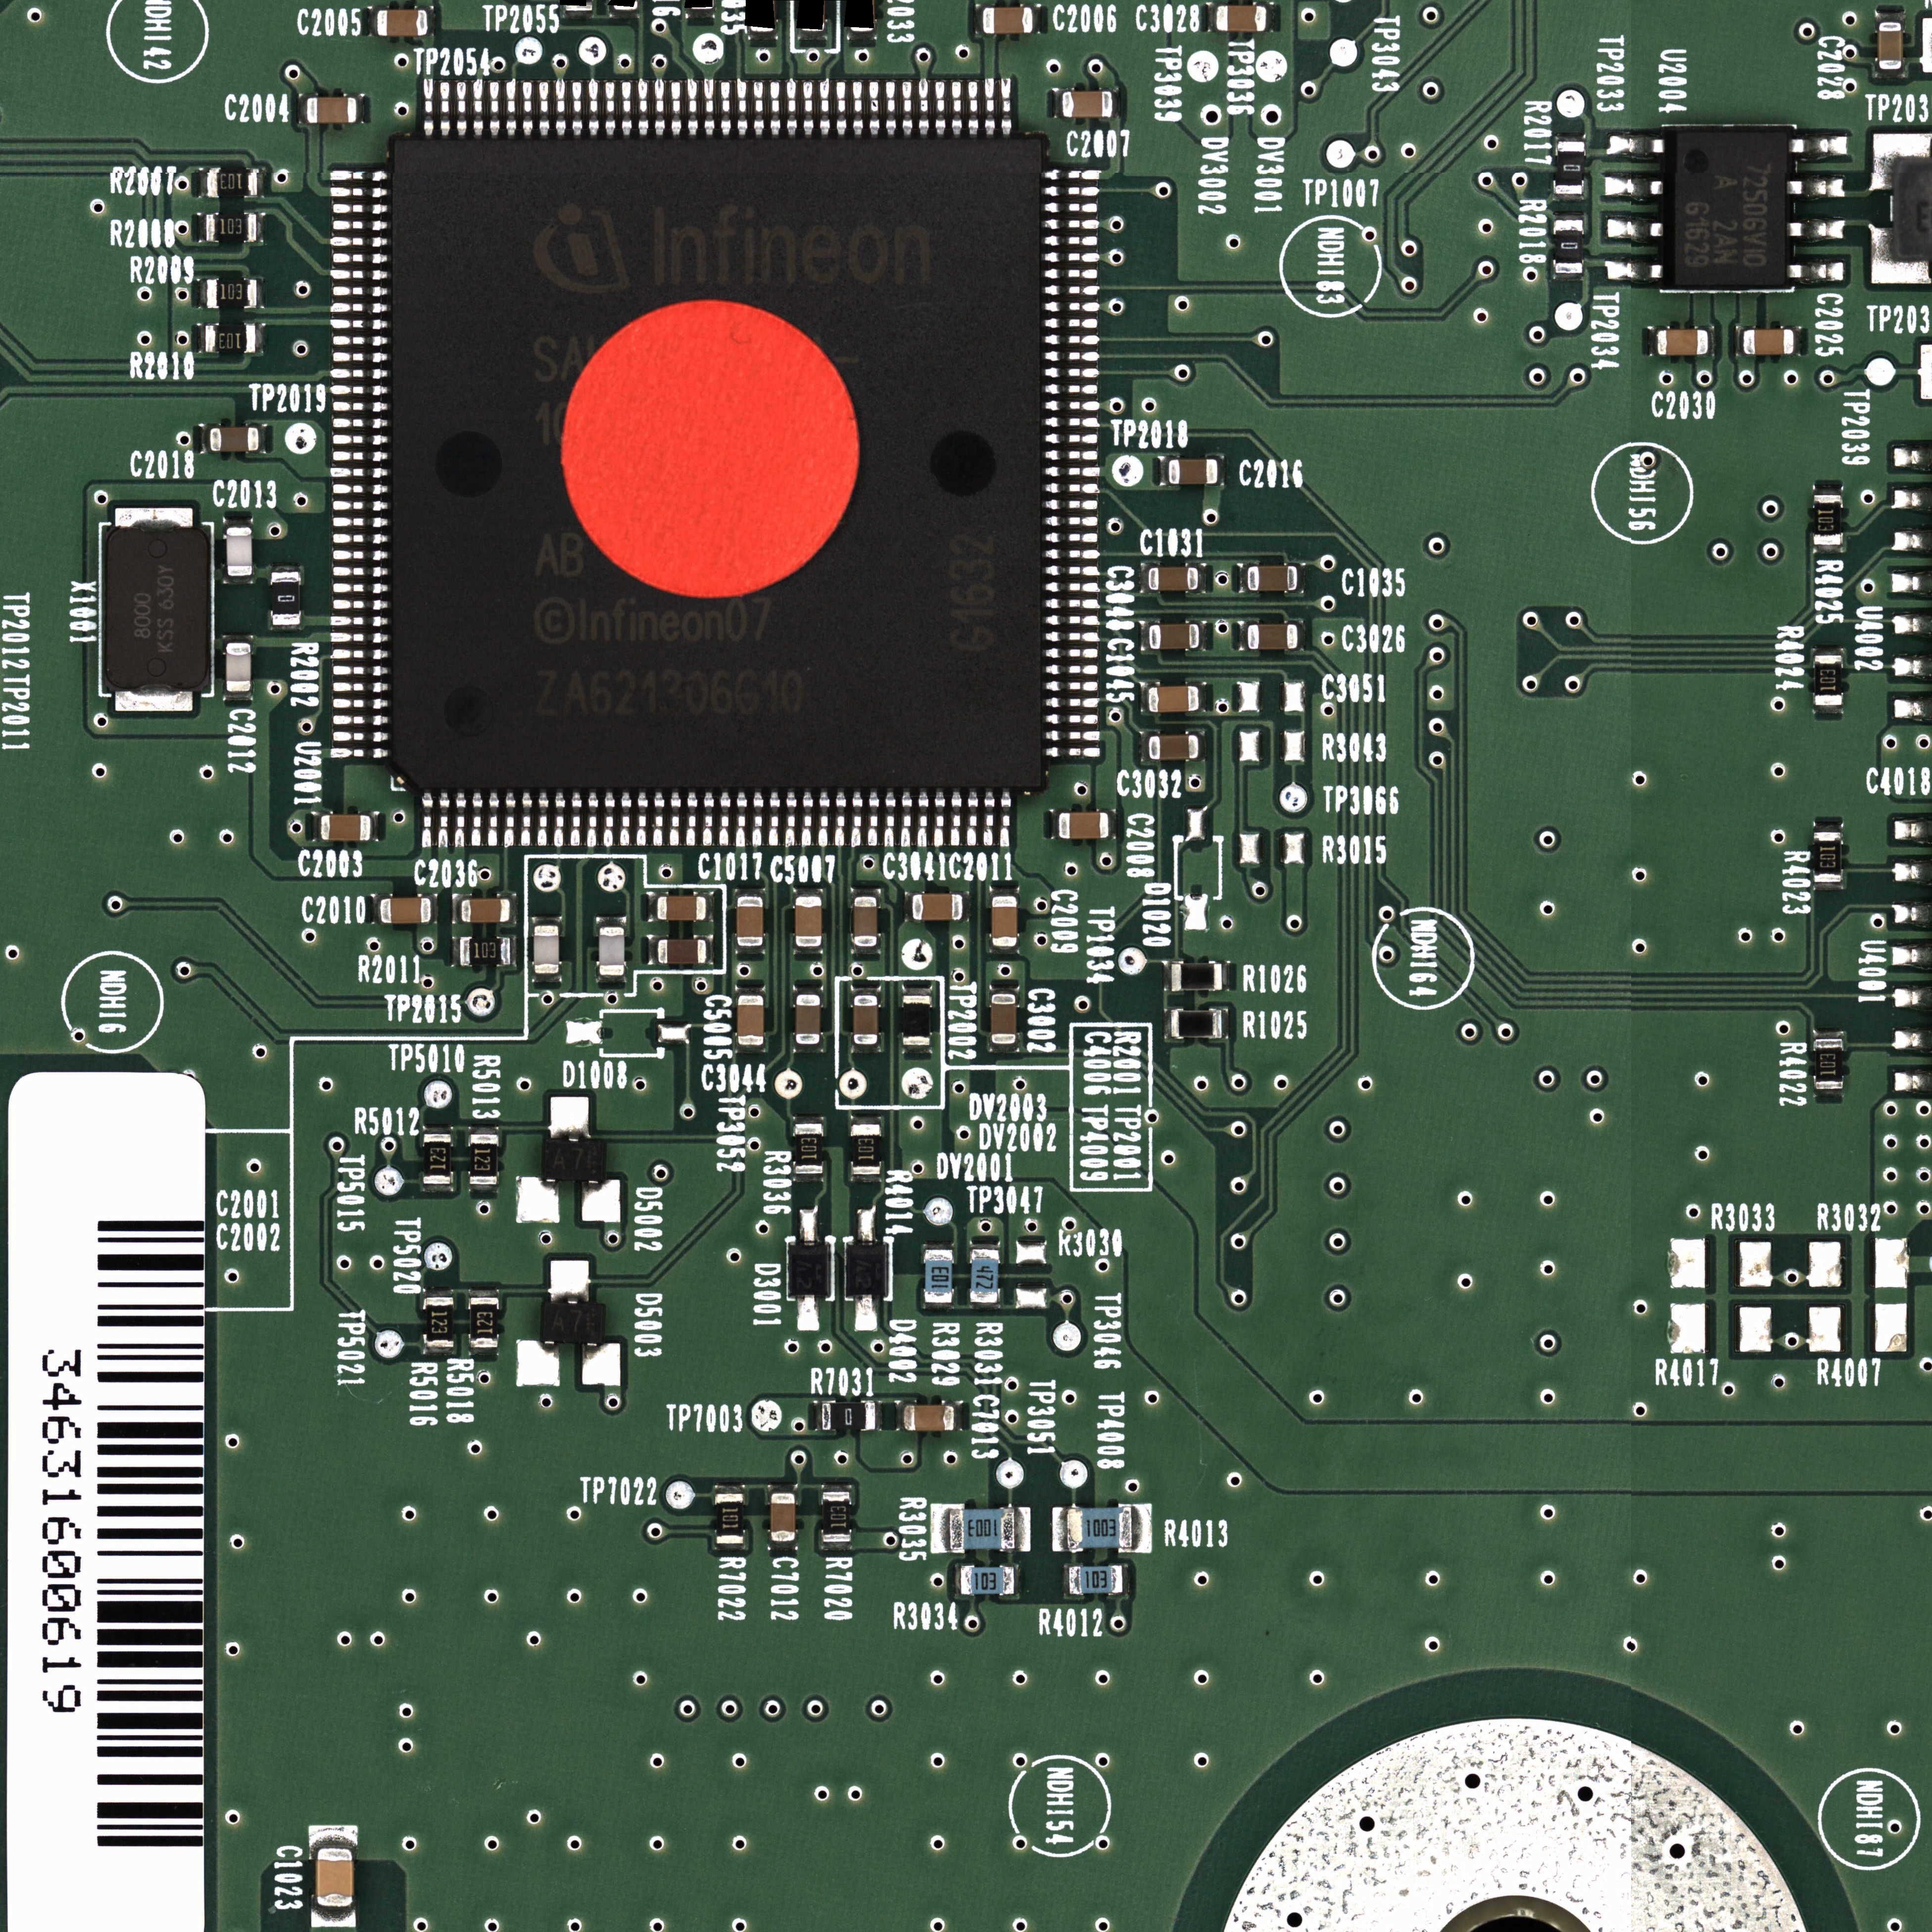Package: (395, 140, 1042, 786), (1670, 129, 1787, 288), (106, 529, 207, 688), (1067, 1507, 1132, 1550), (950, 1509, 1016, 1550), (541, 1304, 603, 1341), (543, 1141, 603, 1178), (317, 1849, 352, 1907), (789, 1246, 828, 1295), (847, 1246, 885, 1295), (1555, 219, 1583, 272), (1069, 1566, 1122, 1594), (821, 1403, 876, 1430), (1171, 962, 1223, 991), (1171, 1008, 1223, 1037), (272, 571, 299, 625), (961, 1568, 1014, 1594), (971, 1249, 998, 1302), (1557, 142, 1583, 195), (377, 9, 426, 37), (794, 897, 823, 947), (207, 280, 257, 308), (902, 996, 931, 1046), (794, 1123, 823, 1173), (320, 814, 372, 840), (205, 214, 257, 241), (306, 97, 357, 124), (982, 7, 1033, 34), (738, 994, 764, 1046), (823, 1491, 849, 1543), (925, 1251, 952, 1302), (853, 1123, 879, 1175), (471, 1297, 497, 1348), (1062, 90, 1113, 117), (1215, 5, 1267, 32), (1058, 812, 1109, 839), (1815, 832, 1842, 883), (1815, 655, 1842, 706), (1815, 1039, 1842, 1090), (913, 893, 962, 920), (460, 938, 510, 964), (380, 897, 430, 924), (205, 326, 255, 352), (425, 1134, 451, 1184), (904, 1405, 954, 1431), (471, 1134, 497, 1184), (717, 1493, 743, 1543), (426, 1297, 453, 1346), (1744, 329, 1794, 356), (1658, 329, 1707, 356), (1813, 495, 1840, 545), (1169, 458, 1217, 485), (738, 897, 763, 947), (853, 897, 878, 947), (993, 897, 1017, 947), (656, 895, 706, 920), (853, 994, 878, 1044), (796, 994, 821, 1044), (991, 994, 1016, 1044), (1150, 625, 1200, 649), (1148, 686, 1198, 711), (1247, 625, 1297, 649), (1148, 734, 1198, 759), (1148, 566, 1198, 591), (1247, 566, 1297, 591), (211, 426, 258, 451), (226, 527, 251, 575), (658, 939, 706, 964), (600, 927, 625, 975), (226, 644, 251, 692), (462, 899, 510, 924), (534, 925, 559, 973), (771, 1493, 794, 1541), (1879, 23, 1902, 69)
Solder: (517, 1341, 559, 1385), (517, 1178, 559, 1223), (550, 1260, 591, 1304), (115, 688, 193, 711), (550, 1097, 589, 1141), (115, 506, 193, 527), (582, 1343, 621, 1385), (582, 1180, 619, 1221), (1789, 134, 1851, 157), (1787, 218, 1849, 241), (1789, 175, 1849, 198), (1789, 260, 1849, 283), (310, 1826, 357, 1849), (1132, 1504, 1152, 1553), (311, 1907, 356, 1928), (931, 1504, 948, 1553), (855, 1295, 878, 1330), (798, 1295, 819, 1330), (331, 400, 389, 412), (331, 384, 389, 396), (331, 433, 389, 446), (331, 449, 389, 462), (331, 467, 389, 479), (331, 648, 389, 660), (331, 747, 389, 759), (331, 632, 389, 644), (686, 78, 699, 136), (984, 78, 996, 136), (331, 186, 387, 198), (331, 285, 387, 297), (488, 80, 501, 136), (331, 235, 387, 248), (333, 697, 389, 709), (333, 681, 389, 694), (504, 791, 517, 847), (587, 80, 600, 136), (637, 80, 649, 136), (736, 80, 748, 136), (786, 80, 798, 136), (851, 791, 863, 847), (718, 791, 731, 847), (916, 791, 929, 847), (901, 791, 913, 847), (1044, 366, 1100, 379), (1044, 416, 1100, 428), (1044, 251, 1100, 264), (1044, 465, 1100, 478), (333, 483, 387, 495), (333, 334, 387, 347), (333, 219, 387, 232), (333, 499, 387, 511), (333, 582, 387, 594), (333, 598, 387, 610), (421, 793, 433, 847), (333, 533, 387, 545), (885, 81, 897, 136), (538, 81, 550, 136), (835, 81, 847, 136), (934, 81, 947, 136), (603, 793, 616, 847), (520, 793, 533, 847), (570, 793, 582, 847), (801, 793, 814, 847), (950, 791, 962, 846), (966, 791, 978, 846), (1044, 202, 1099, 214), (1044, 317, 1099, 329), (1044, 218, 1099, 230), (1044, 267, 1099, 280), (1046, 614, 1100, 626), (1046, 729, 1100, 741), (1046, 564, 1100, 577), (471, 793, 483, 846), (752, 793, 764, 846), (768, 793, 780, 846), (653, 793, 665, 846), (669, 793, 681, 846), (619, 793, 632, 846), (702, 793, 715, 846), (817, 793, 830, 846), (1046, 663, 1099, 676), (1046, 713, 1099, 725), (1046, 515, 1099, 527), (329, 368, 389, 379), (858, 1208, 876, 1244), (800, 1208, 817, 1244), (1016, 1507, 1030, 1552), (1053, 1507, 1067, 1552), (331, 418, 389, 428), (329, 303, 387, 313), (331, 731, 389, 741), (331, 616, 389, 626), (704, 78, 715, 136), (1001, 78, 1012, 136), (423, 80, 433, 136), (331, 318, 387, 329), (331, 269, 387, 280), (331, 253, 387, 264), (472, 80, 483, 136), (333, 665, 389, 676), (333, 715, 389, 725), (902, 80, 913, 136), (506, 80, 517, 136), (918, 80, 929, 136), (556, 80, 566, 136), (571, 80, 582, 136), (655, 80, 665, 136), (671, 80, 681, 136), (968, 80, 978, 136), (786, 791, 796, 847), (835, 791, 846, 847), (934, 791, 945, 847), (869, 791, 879, 847), (885, 791, 895, 847), (1044, 186, 1100, 196), (1044, 285, 1100, 295), (1044, 334, 1100, 345), (1044, 301, 1100, 311), (1044, 350, 1100, 361), (1044, 400, 1100, 410), (1044, 483, 1100, 494), (1000, 791, 1010, 847), (441, 81, 451, 136), (456, 81, 467, 136), (333, 352, 387, 363), (333, 203, 387, 214), (455, 793, 465, 847), (333, 566, 387, 577), (488, 793, 499, 847), (333, 550, 387, 561), (439, 793, 449, 847), (333, 517, 387, 527), (522, 81, 533, 136), (605, 81, 616, 136), (621, 81, 632, 136), (819, 80, 830, 134), (720, 81, 731, 136), (803, 80, 814, 134), (869, 81, 879, 136), (754, 81, 764, 136), (952, 81, 962, 136), (853, 81, 863, 136), (770, 81, 780, 136), (538, 793, 548, 847), (587, 793, 598, 847), (554, 793, 564, 847), (736, 793, 747, 847), (1044, 384, 1099, 395), (1044, 433, 1099, 444), (1044, 449, 1099, 460), (1044, 499, 1099, 510), (1046, 598, 1100, 609), (1046, 582, 1100, 593), (1046, 747, 1100, 757), (984, 791, 994, 846), (637, 793, 648, 846), (686, 793, 697, 846), (1044, 235, 1097, 246), (1046, 681, 1099, 692), (1046, 697, 1099, 708), (1046, 648, 1099, 658), (1046, 632, 1099, 642), (1046, 533, 1099, 543), (1046, 548, 1099, 559), (646, 934, 658, 964), (847, 32, 878, 44), (366, 5, 377, 37), (370, 893, 380, 925), (449, 936, 460, 968), (973, 4, 984, 35), (1205, 2, 1215, 34), (1874, 69, 1905, 80), (750, 32, 777, 44), (800, 32, 826, 44), (223, 517, 253, 527), (596, 916, 626, 927), (954, 1401, 964, 1431), (1198, 683, 1208, 713), (1237, 621, 1247, 651), (1875, 11, 1905, 21), (1813, 706, 1844, 717), (421, 1184, 455, 1192), (297, 92, 306, 124), (200, 423, 209, 455), (257, 322, 265, 354), (426, 5, 435, 37), (198, 278, 207, 310), (372, 810, 380, 842), (423, 1346, 455, 1355), (467, 1125, 499, 1134), (734, 888, 766, 897), (793, 947, 824, 955), (734, 947, 766, 955), (734, 985, 766, 994), (901, 1046, 932, 1054), (901, 985, 932, 994), (793, 1115, 824, 1123), (952, 1564, 961, 1596), (1159, 455, 1168, 487), (1111, 87, 1120, 119), (1217, 455, 1226, 487), (1198, 563, 1207, 594), (1297, 619, 1306, 651), (1139, 731, 1148, 763), (1108, 809, 1116, 840), (1139, 681, 1148, 713), (1049, 809, 1058, 840), (1162, 961, 1171, 993), (1221, 1007, 1230, 1039), (357, 94, 366, 124), (257, 212, 265, 242), (196, 324, 205, 354), (311, 812, 320, 842), (223, 692, 253, 701), (451, 893, 460, 924), (271, 564, 301, 573), (469, 1346, 499, 1355), (469, 1184, 499, 1192), (423, 1125, 453, 1134), (648, 892, 656, 922), (706, 892, 715, 922), (533, 916, 563, 925), (851, 888, 881, 897), (851, 947, 881, 955), (904, 892, 913, 922), (793, 888, 823, 897), (533, 973, 563, 982), (596, 975, 626, 984), (962, 892, 971, 922), (851, 1044, 881, 1053), (736, 1046, 766, 1054), (851, 985, 881, 994), (793, 1044, 823, 1053), (895, 1401, 904, 1431), (814, 1401, 823, 1431), (793, 985, 823, 994), (851, 1115, 881, 1123), (970, 1240, 1000, 1249), (768, 1541, 798, 1550), (768, 1484, 798, 1493), (715, 1484, 745, 1493), (1033, 4, 1042, 34), (1053, 88, 1062, 119), (1267, 2, 1276, 32), (1238, 563, 1247, 593), (1198, 731, 1207, 761), (989, 886, 1019, 895), (1297, 563, 1306, 593), (1139, 621, 1148, 651), (1139, 563, 1148, 593), (989, 947, 1019, 955), (1200, 621, 1208, 651), (1223, 961, 1231, 991), (989, 1044, 1019, 1053), (989, 985, 1019, 994), (1122, 1564, 1131, 1594), (1813, 485, 1844, 494), (1555, 133, 1585, 142), (1813, 823, 1844, 832), (1813, 545, 1844, 554), (1813, 646, 1844, 655), (1813, 1090, 1844, 1099), (1813, 1030, 1844, 1039), (258, 425, 267, 453), (706, 936, 715, 964), (564, 11, 593, 19), (968, 1302, 1001, 1309), (223, 577, 255, 584), (423, 1290, 455, 1297), (922, 1302, 954, 1309), (922, 1242, 954, 1249), (851, 1175, 883, 1182), (793, 1175, 824, 1182), (821, 1543, 853, 1550), (715, 1545, 747, 1552), (1014, 1564, 1021, 1596), (1062, 1564, 1069, 1596), (1553, 195, 1585, 202), (1553, 212, 1585, 219), (1812, 883, 1844, 890), (257, 278, 264, 308), (198, 212, 205, 242), (432, 893, 439, 924), (223, 635, 253, 642), (271, 625, 301, 632), (469, 1290, 499, 1297), (510, 893, 517, 924), (510, 936, 517, 966), (876, 1401, 883, 1431), (821, 1484, 851, 1491), (1164, 1008, 1171, 1039), (1736, 326, 1743, 356), (1794, 326, 1801, 356), (1553, 274, 1583, 281), (1707, 326, 1714, 356), (610, 11, 640, 18), (1651, 327, 1658, 356), (686, 18, 715, 25)
